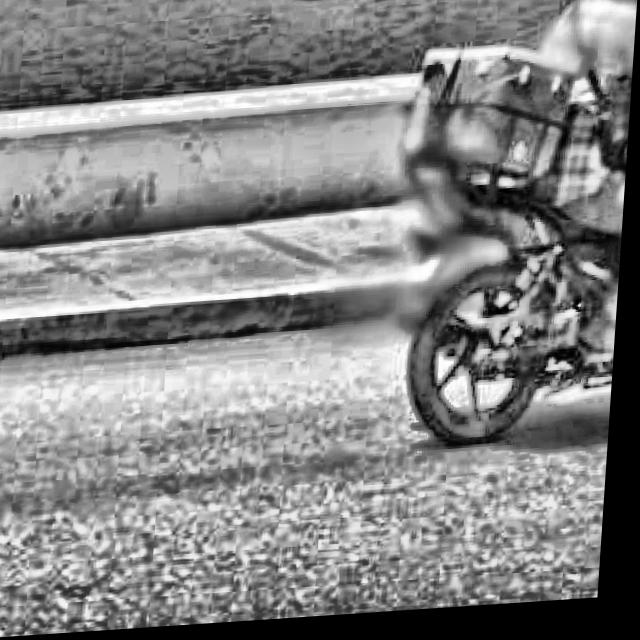motorcycle: (358, 13, 638, 465)
